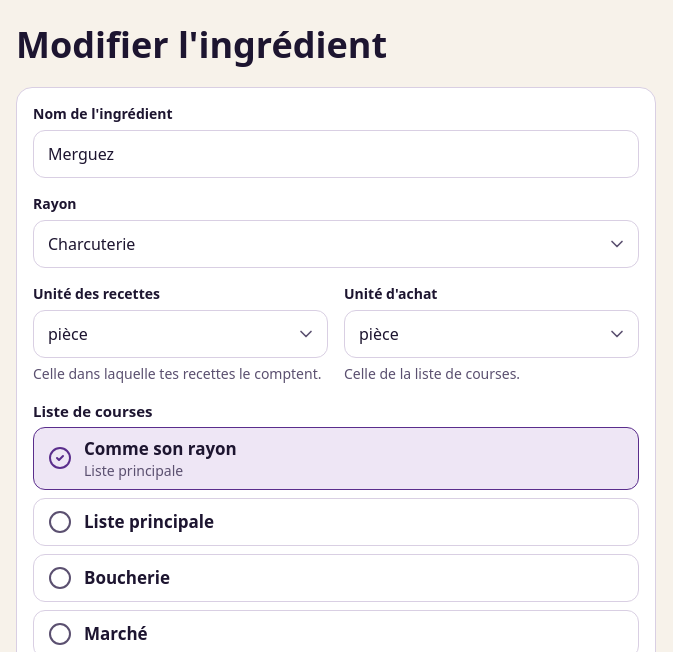
Test case: IngredientEditorView : liste de courses du produit › « Comme son rayon » nomme le type du rayon choisi dans le formulaire
expect the field labelled "Nom de l'ingrédient" is shown: met, box [33,130,639,178]
Step 1. Select "Viandes" in the dropdown labelled "Rayon" → (336, 244), box [33,220,639,268]
(page scrolled)
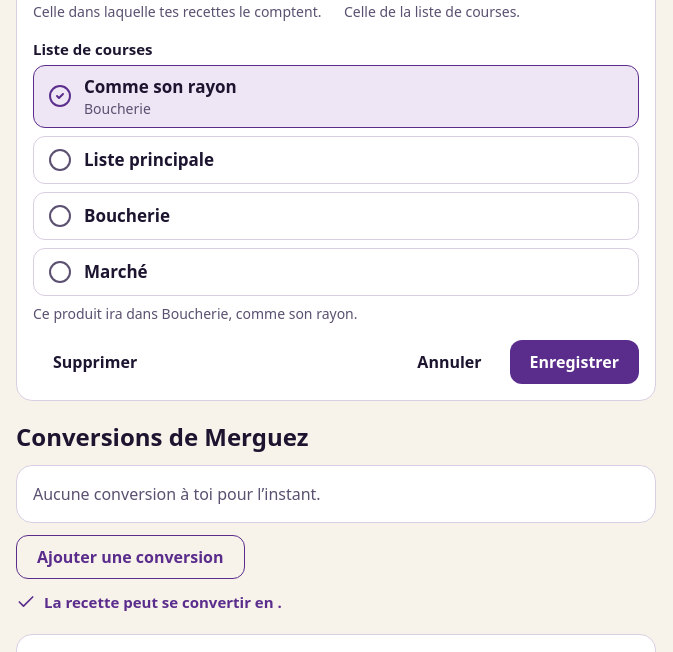
expect the radio button labelled "Comme son rayon Boucherie" is shown: met, box [33,64,639,128]
expect the text "Ce produit ira dans Boucherie, comme son rayon." is shown: met, box [33,304,358,323]
